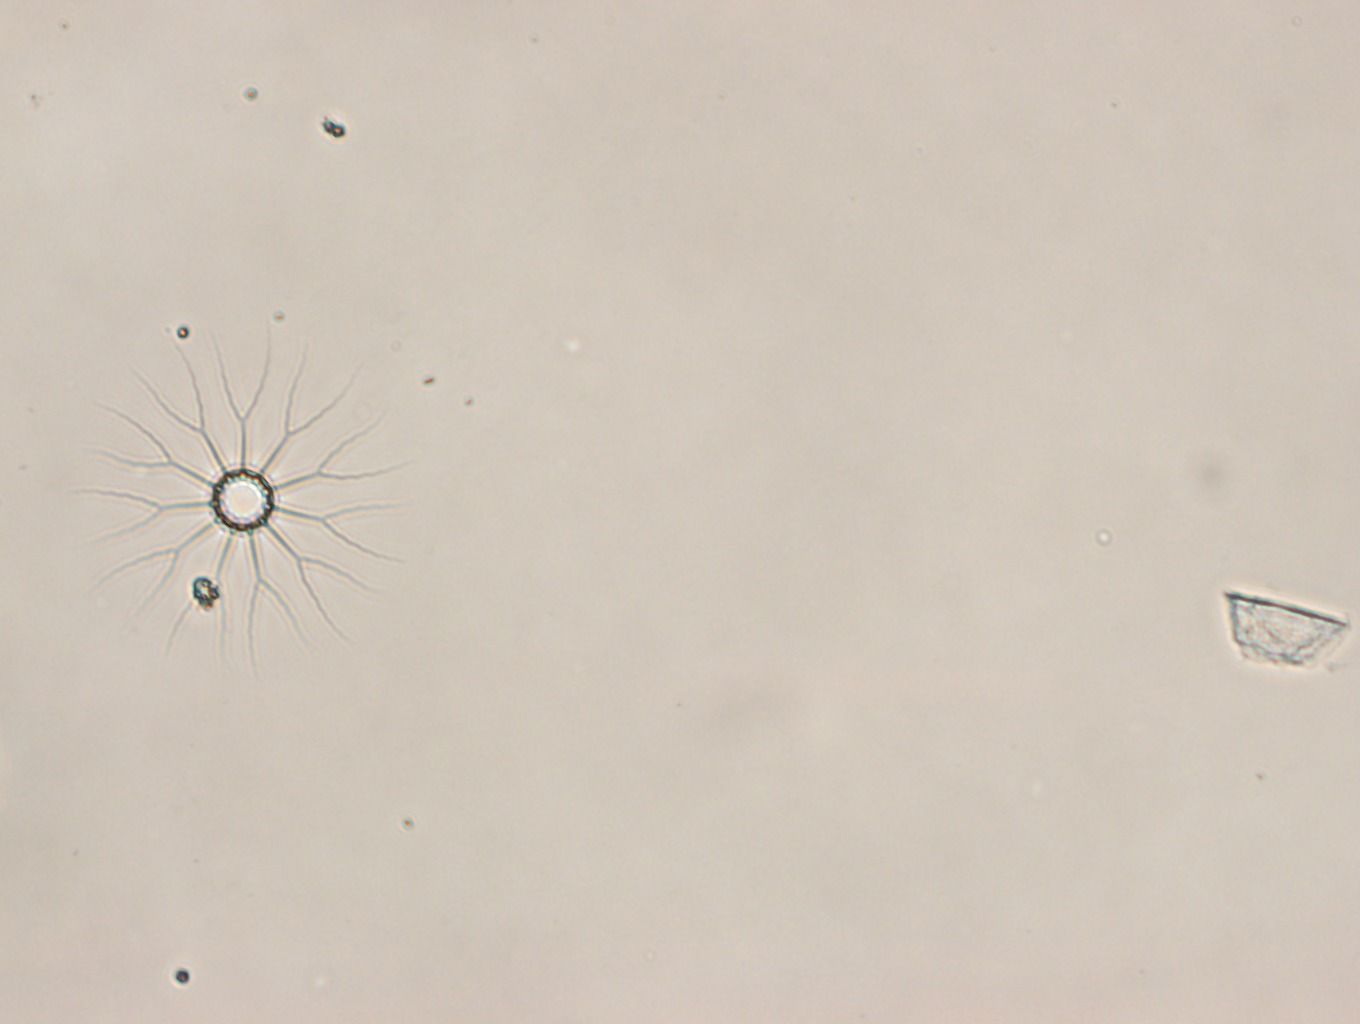bacteriastrum: (82, 336, 407, 663)
